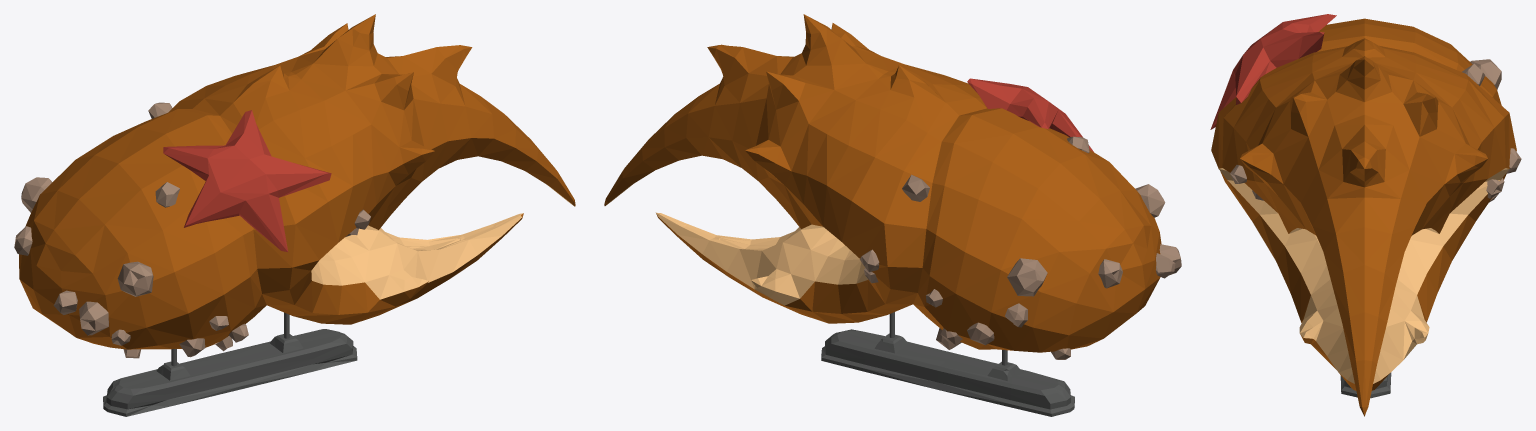
File: Crab_Claw_010.fbx
3 renders of one model, left to right at view 1: azimuth 30°, elevation 25°; view 2: azimuth 150°, elevation 25°; view 3: azimuth 270°, elevation 25°, orthographic. The views are drawn at different scales.
Visible parts, largest first — view 1: Crab_Claw_010; view 2: Crab_Claw_010; view 3: Crab_Claw_010.
Boxes of the visible parts, x1,y1,x2,y2 form: Crab_Claw_010: (14, 14, 575, 416); Crab_Claw_010: (604, 14, 1181, 416); Crab_Claw_010: (1210, 14, 1521, 416).
Size of the model in its own units: 1.67 by 0.972 by 0.7843.
